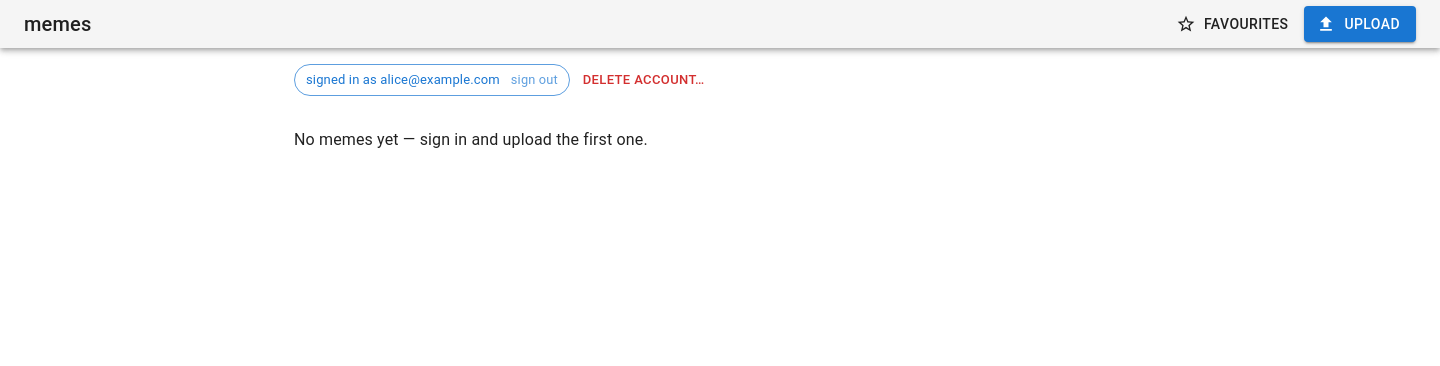
ending the session tells the server, not only this tab › sign out POSTs /logout with the cookie riding along
Expected: the text "signed in as alice@example.com" is shown, [295,70,511,90]
Click the icon "sign out" at (534, 80), box [511,72,558,87]
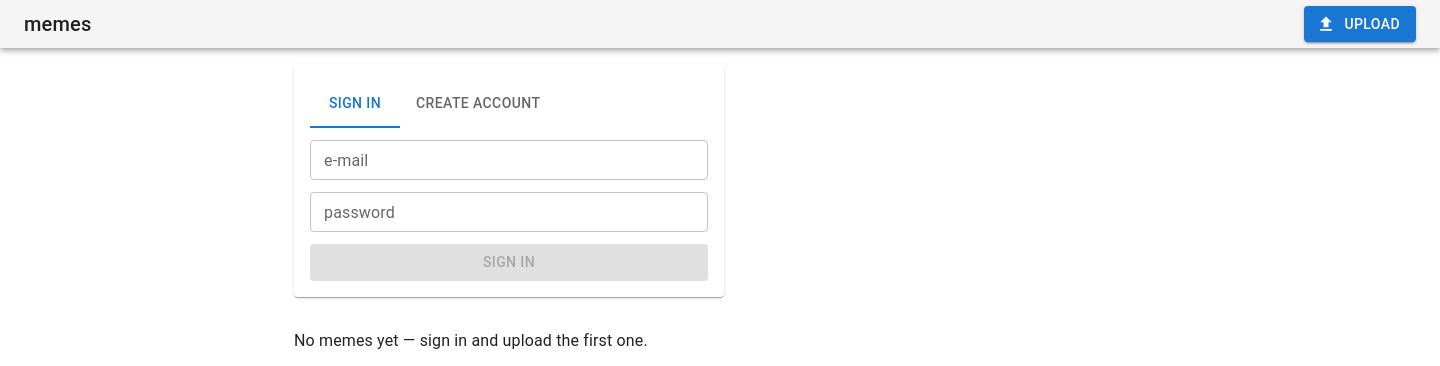
Expected: the button "signed in as" is gone
